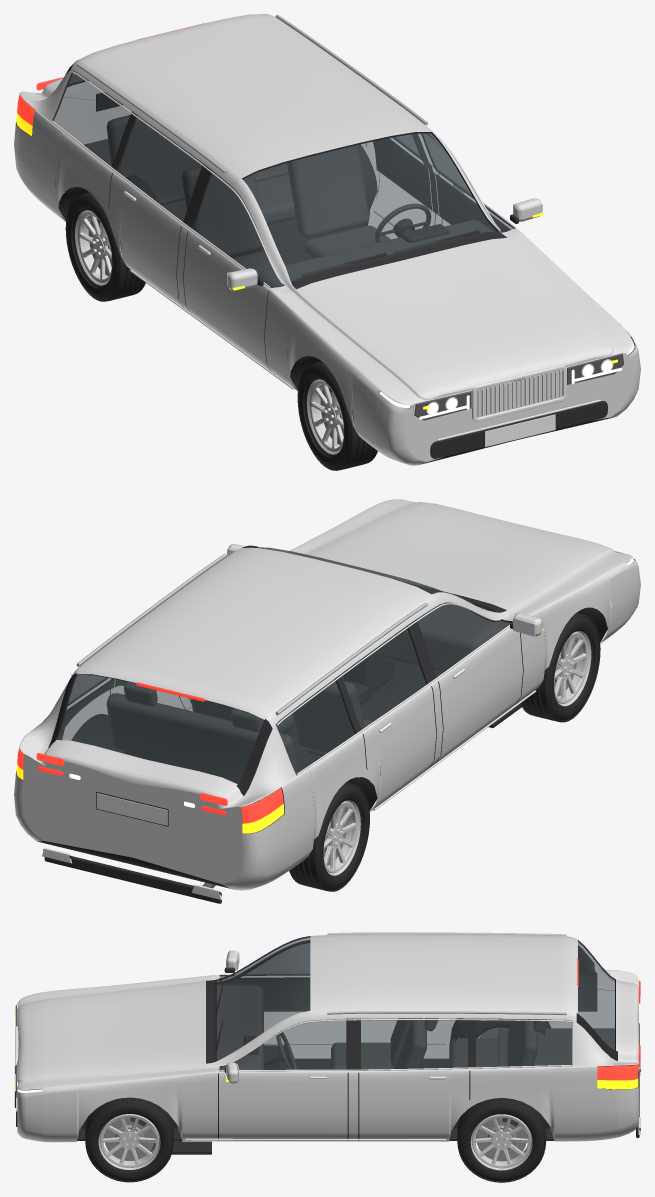
The model's file is ravn.glb.
The picture shows the model from 3 angles, top to bottom: view 1: azimuth 30°, elevation 25°; view 2: azimuth 150°, elevation 25°; view 3: azimuth 270°, elevation 25°; orthographic projection. The views are drawn at different scales.
Visible parts, largest first — view 1: body, wheel_FR, wheel_RR, steering; view 2: body, wheel_RR, wheel_FR; view 3: body, wheel_RL, wheel_FL, wheel_RR, steering.
Boxes of the visible parts, x1=… form: body: x1=14, y1=14, x2=640, y2=465; wheel_FR: x1=297, y1=361, x2=377, y2=470; wheel_RR: x1=65, y1=192, x2=145, y2=301; steering: x1=375, y1=203, x2=431, y2=242; body: x1=14, y1=499, x2=640, y2=903; wheel_RR: x1=289, y1=782, x2=369, y2=891; wheel_FR: x1=520, y1=613, x2=600, y2=722; body: x1=14, y1=932, x2=640, y2=1154; wheel_RL: x1=457, y1=1098, x2=546, y2=1182; wheel_FL: x1=85, y1=1097, x2=173, y2=1182; wheel_RR: x1=458, y1=1018, x2=511, y2=1038; steering: x1=264, y1=1032, x2=296, y2=1069.
Bounding box in the file's own units: 2.29 × 1.47 × 4.95.
